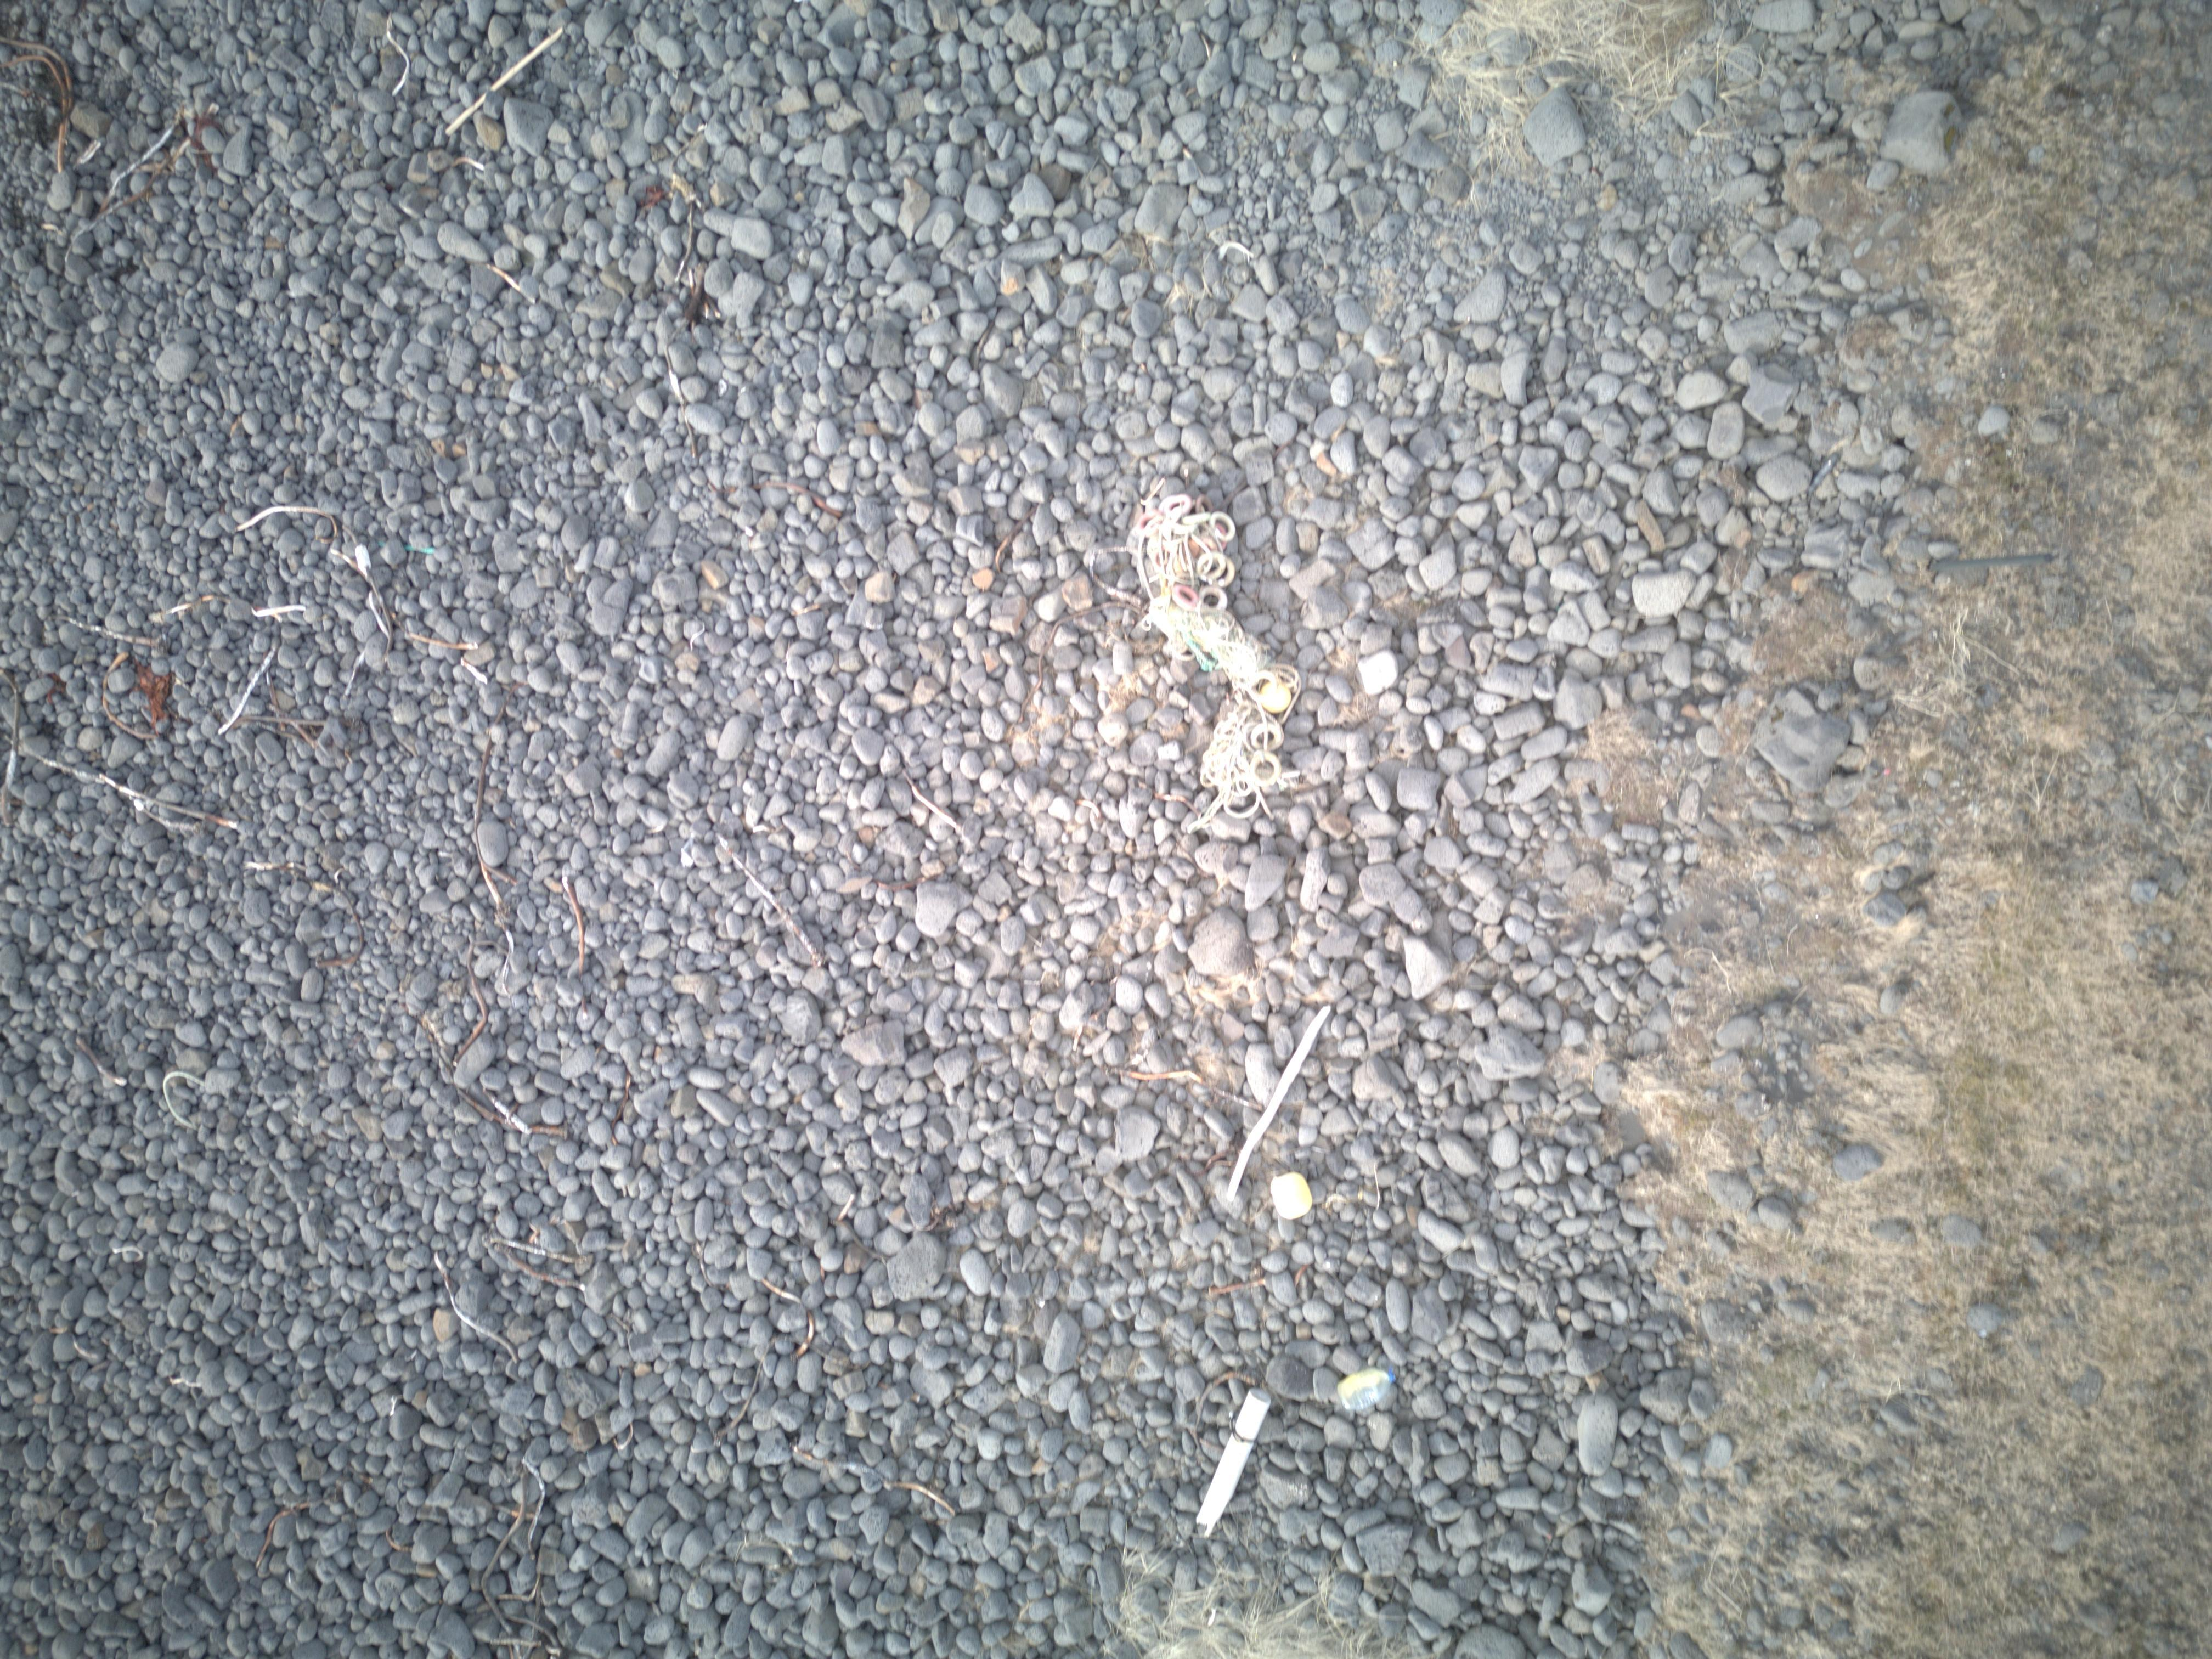trash: (1123, 493, 1305, 833), (1132, 497, 1301, 830), (1334, 1370, 1395, 1413), (1270, 1171, 1313, 1218)
